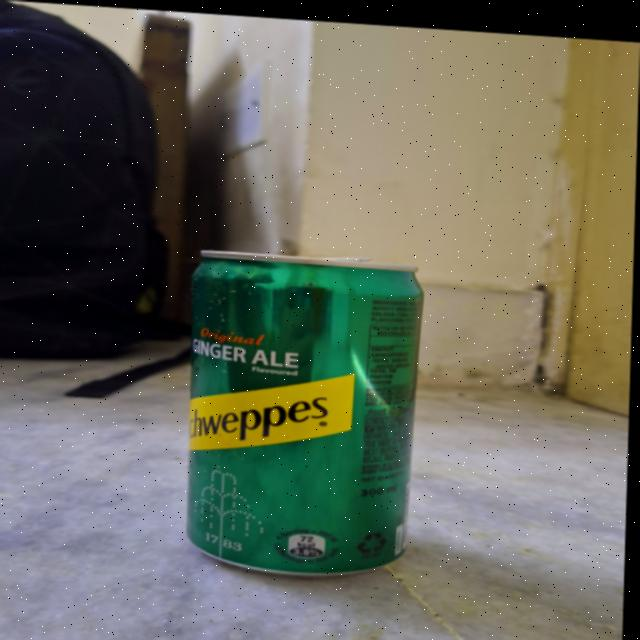Schweppes: (173, 239, 425, 580)
